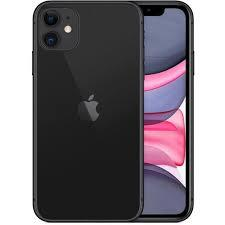Smartphone: (37, 7, 138, 217), (143, 8, 192, 216)
